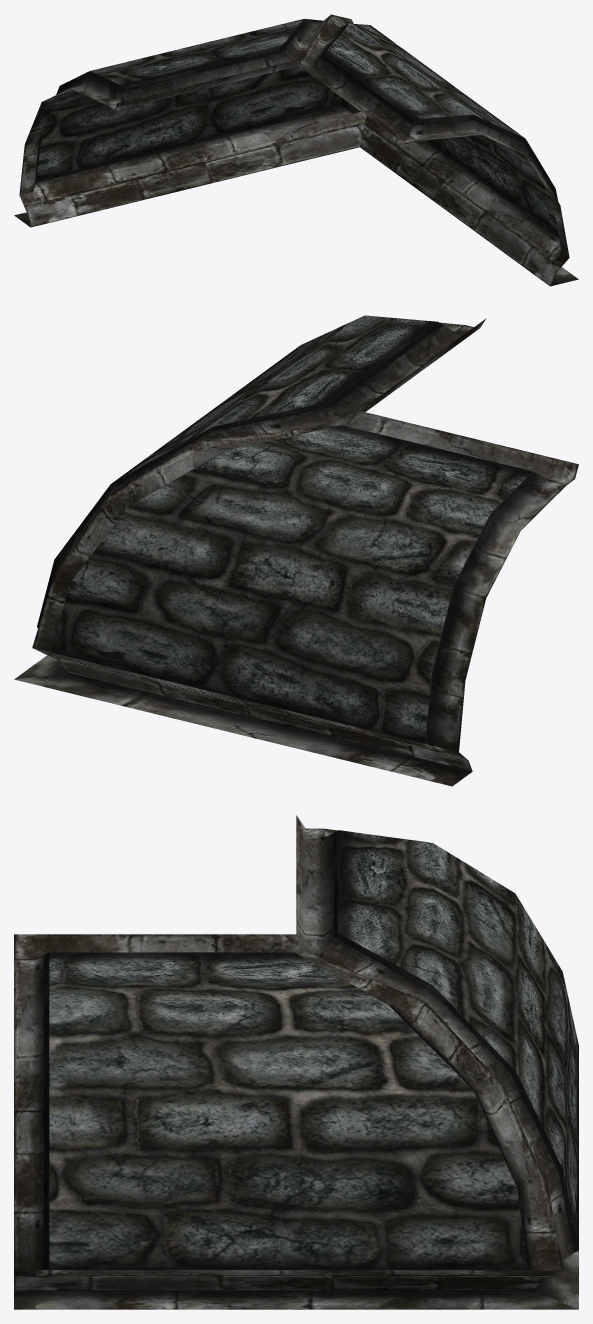
File: corner_concave.dae
3 renders of one model, top to bottom at view 1: azimuth 30°, elevation 25°; view 2: azimuth 150°, elevation 25°; view 3: azimuth 270°, elevation 25°, orthographic. The views are drawn at different scales.
Visible parts, largest first — view 1: polySurface1; view 2: polySurface1; view 3: polySurface1.
Boxes of the visible parts, x1,y1,x2,y2 form: polySurface1: (14, 14, 578, 286); polySurface1: (14, 315, 578, 786); polySurface1: (14, 815, 578, 1309).
Bounding box in the file's own units: 4 × 2 × 4.
